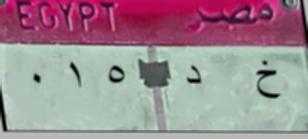0: (28, 68, 48, 94)
1: (62, 58, 90, 92)
5: (103, 60, 135, 91)
daal: (180, 60, 210, 91)
khaa: (245, 57, 287, 108)
